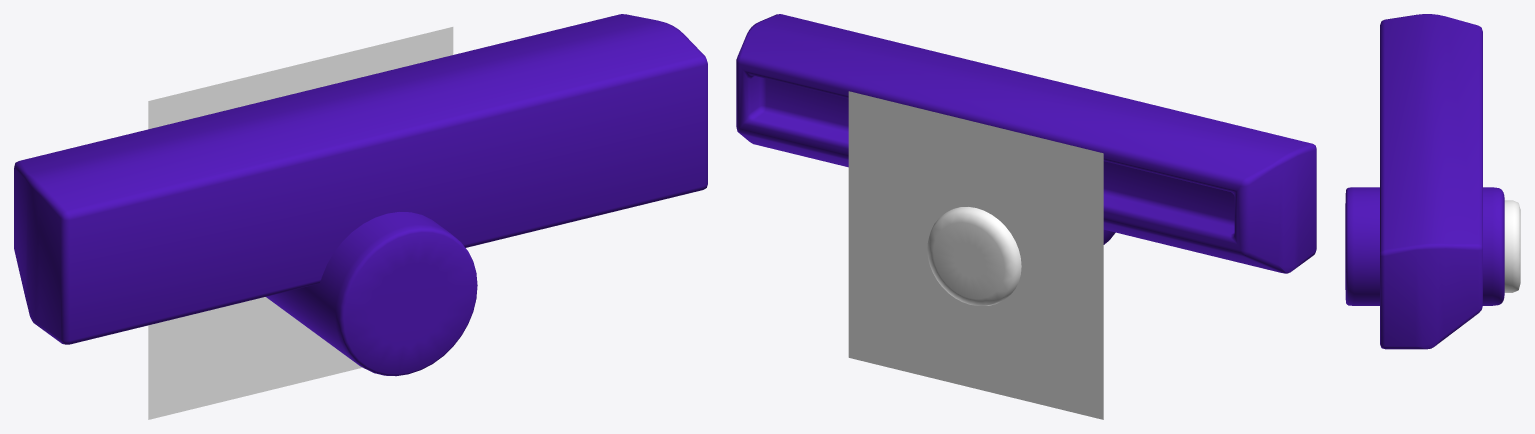
Rendered from BridgePart1.fbx.
3 views of the same model, side by side, from view 1: azimuth 30°, elevation 25°; view 2: azimuth 150°, elevation 25°; view 3: azimuth 270°, elevation 25° (orthographic). The views are drawn at different scales.
Parts seen in each view (by area): view 1: Box025, Plane002; view 2: Box025, Plane002; view 3: Box025.
Boxes of the visible parts, left/top/right/bottom form: Box025: left=14, top=14, right=707, bottom=376; Plane002: left=148, top=27, right=453, bottom=419; Box025: left=736, top=14, right=1316, bottom=305; Plane002: left=848, top=91, right=1103, bottom=419; Box025: left=1345, top=14, right=1520, bottom=349.
Size of the model in its own units: 148 by 47.07 by 70.
